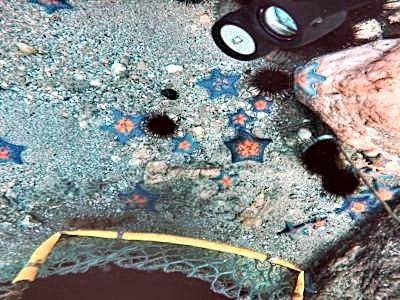urchin: (294, 133, 336, 172), (252, 65, 290, 92), (319, 170, 357, 197), (145, 113, 179, 138)
